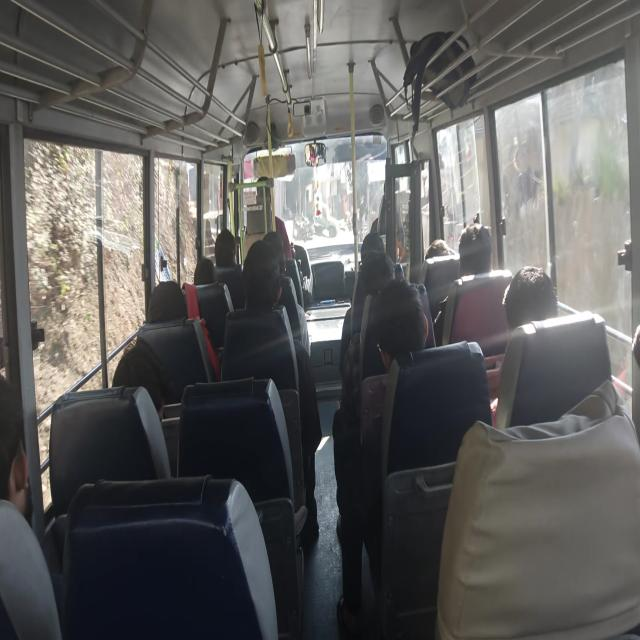person: (435, 378, 639, 638), (334, 278, 430, 634), (221, 238, 322, 539), (0, 372, 62, 638), (487, 264, 558, 424), (339, 231, 395, 377), (262, 230, 311, 356), (369, 278, 428, 374), (111, 338, 171, 422), (502, 264, 558, 332), (212, 228, 245, 310), (457, 222, 492, 277), (214, 228, 238, 268), (424, 238, 456, 261), (193, 256, 214, 285)
